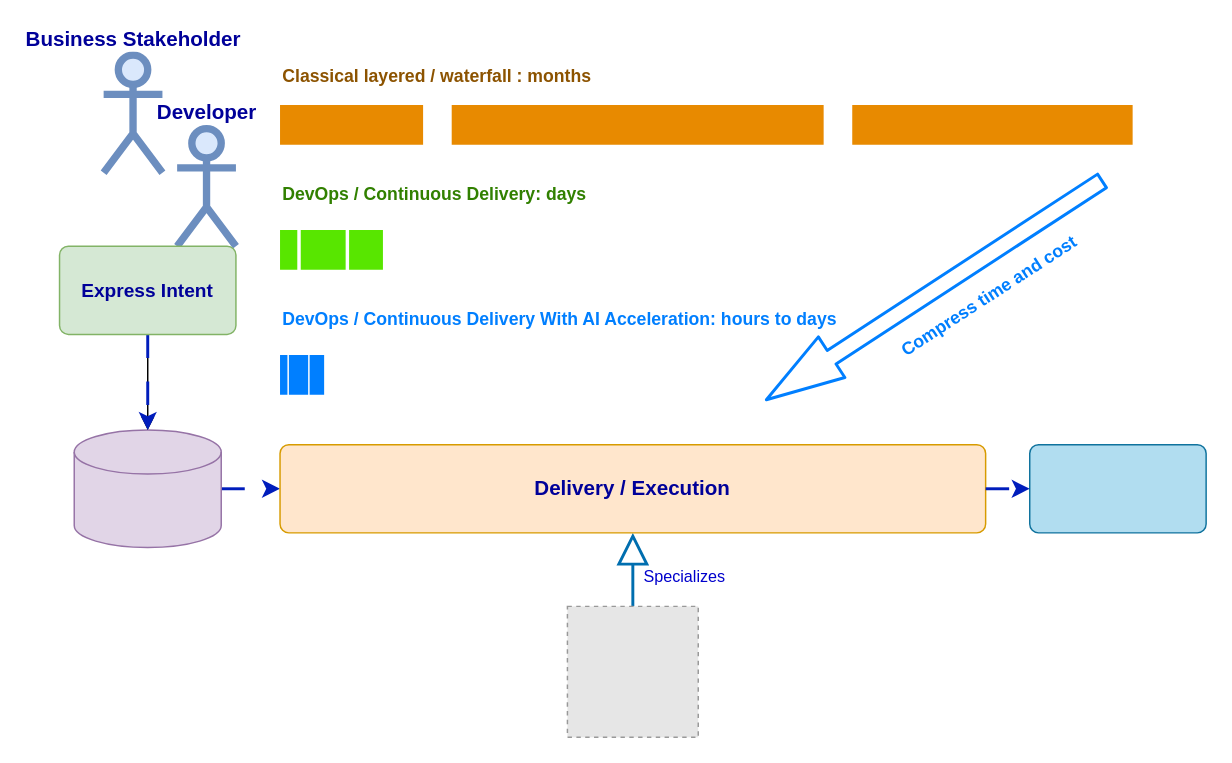
Image size: 1232x763. Some labels were removed from this diagram. Grey dashed boxes stand in for pictures. Here are the shapes that lost their labels. From the top down, the centre of each, then its label:
At point (147, 488): "Source Control".
At point (1117, 488): "Production Systems (E-type programs)".
